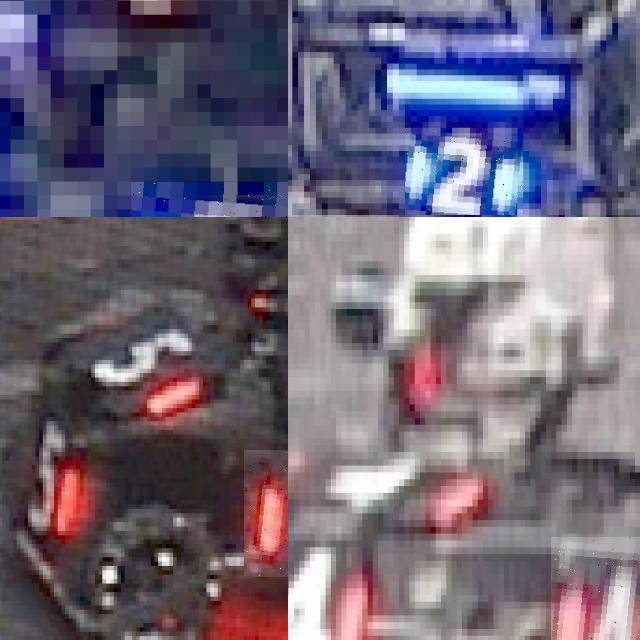B2: (405, 128, 523, 215)
R4: (288, 401, 485, 544), (288, 526, 378, 640), (551, 537, 640, 640)
R5: (63, 299, 201, 430), (0, 399, 91, 530), (244, 450, 288, 577)
